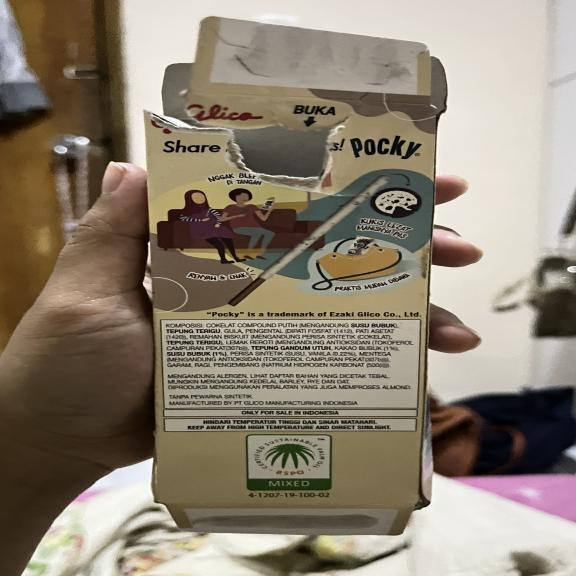Kertas: (150, 96, 434, 501)
